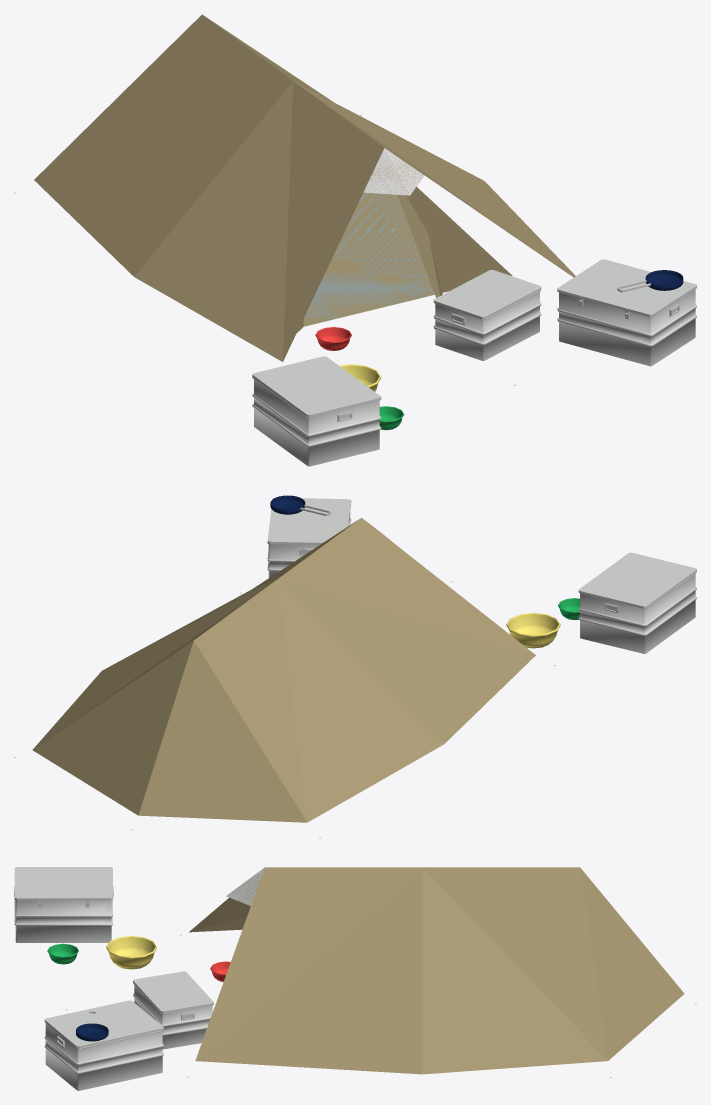
The model's file is tent.fbx.
3 views of the same model, one above another, from view 1: azimuth 30°, elevation 25°; view 2: azimuth 150°, elevation 25°; view 3: azimuth 270°, elevation 25° (orthographic). The views are drawn at different scales.
Parts seen in each view (by area): view 1: Group1, Group2, Group28, Group15, Gruppe_200_2; view 2: Group1, Group2, Group28, Gruppe_200_3, Group41; view 3: Group1, Group28, Group2, Group15, Gruppe_200_3, Gruppe_200_1, Group41.
Boxes of the visible parts, x1,y1,x2,y2 form: Group1: (14, 14, 575, 385); Group2: (252, 356, 381, 466); Group28: (557, 259, 696, 366); Group15: (433, 270, 541, 360); Gruppe_200_2: (315, 327, 351, 350); Group1: (14, 518, 555, 838); Group2: (578, 552, 696, 653); Group28: (267, 497, 351, 577); Gruppe_200_3: (506, 613, 560, 648); Group41: (270, 495, 305, 514); Group1: (65, 867, 696, 1077); Group28: (44, 1000, 163, 1090); Group2: (14, 867, 112, 942); Group15: (133, 971, 213, 1049); Gruppe_200_3: (106, 936, 156, 969); Gruppe_200_1: (47, 943, 78, 964); Group41: (76, 1023, 108, 1041).
Bounding box in the file's own units: 3.5 × 1.29 × 5.63.
